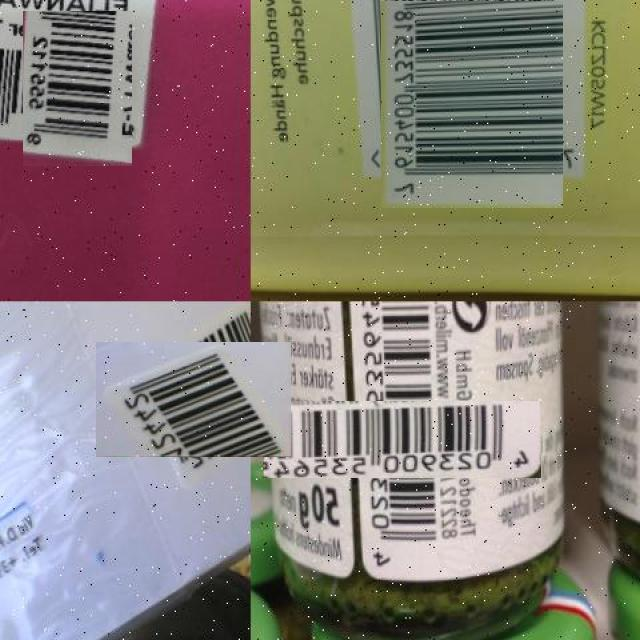Barcode: (369, 0, 576, 196), (313, 351, 491, 529), (116, 322, 271, 477), (11, 22, 144, 154)
